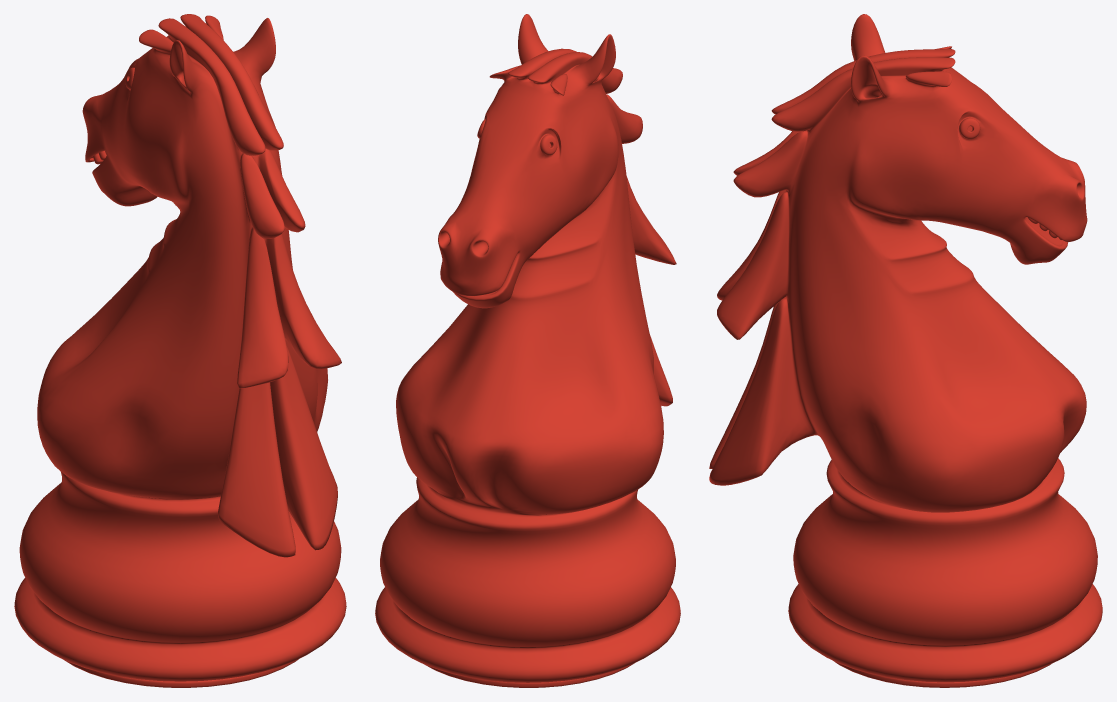
The model's file is redhorse.fbx.
3 renders of one model, left to right at view 1: azimuth 30°, elevation 25°; view 2: azimuth 150°, elevation 25°; view 3: azimuth 270°, elevation 25°, orthographic. The views are drawn at different scales.
Parts seen in each view (by area): view 1: Mesh.004; view 2: Mesh.004; view 3: Mesh.004.
Boxes of the visible parts, x1=… form: Mesh.004: x1=14, y1=14, x2=346, y2=687; Mesh.004: x1=375, y1=14, x2=680, y2=687; Mesh.004: x1=709, y1=14, x2=1102, y2=687.
Bounding box in the file's own units: 172 × 362 × 216.
